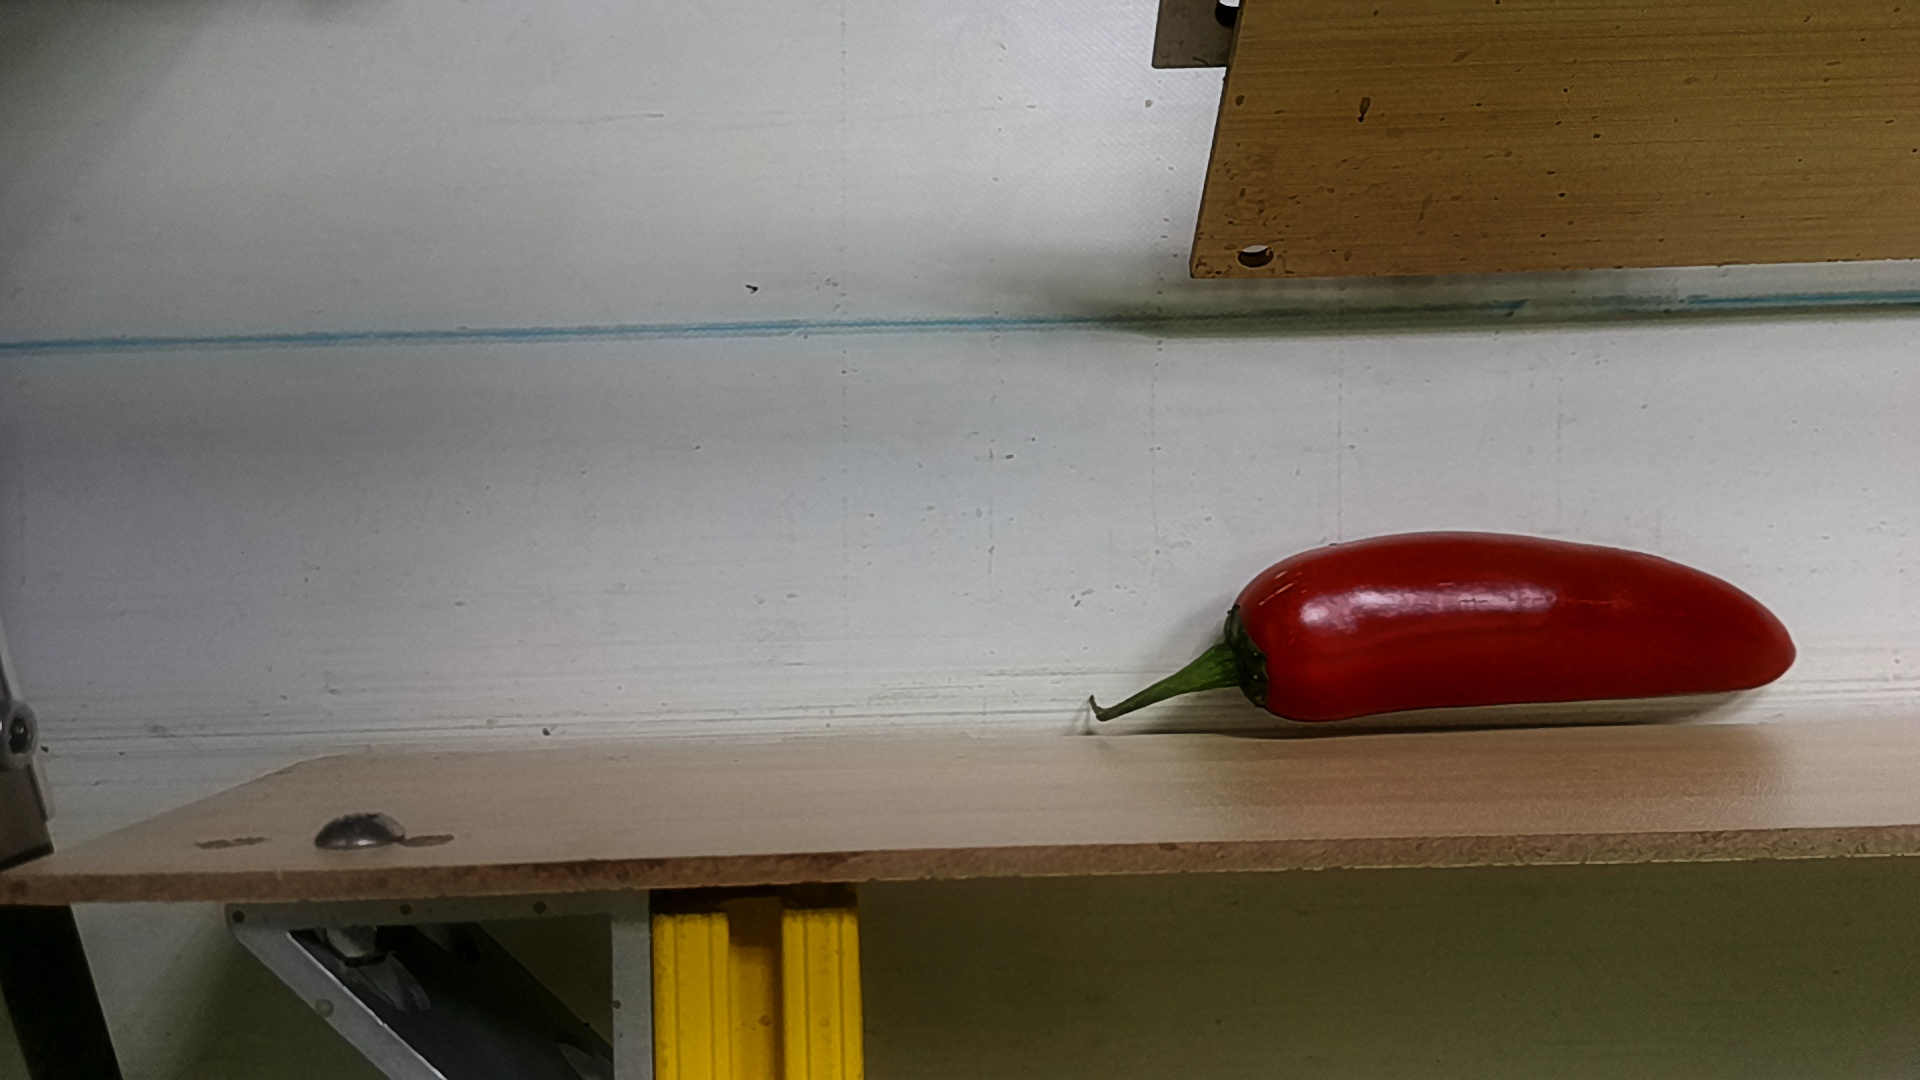Cut Point: (1212, 551, 1312, 731)
